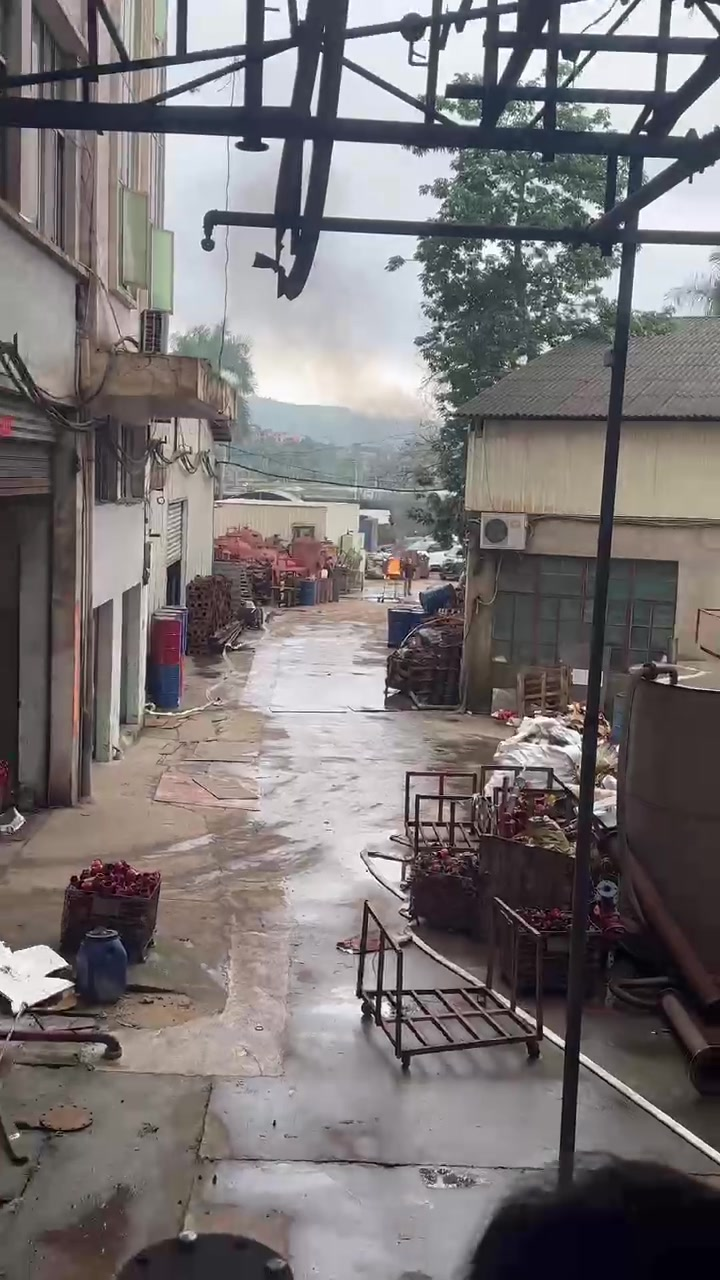fire: (387, 560, 400, 573)
